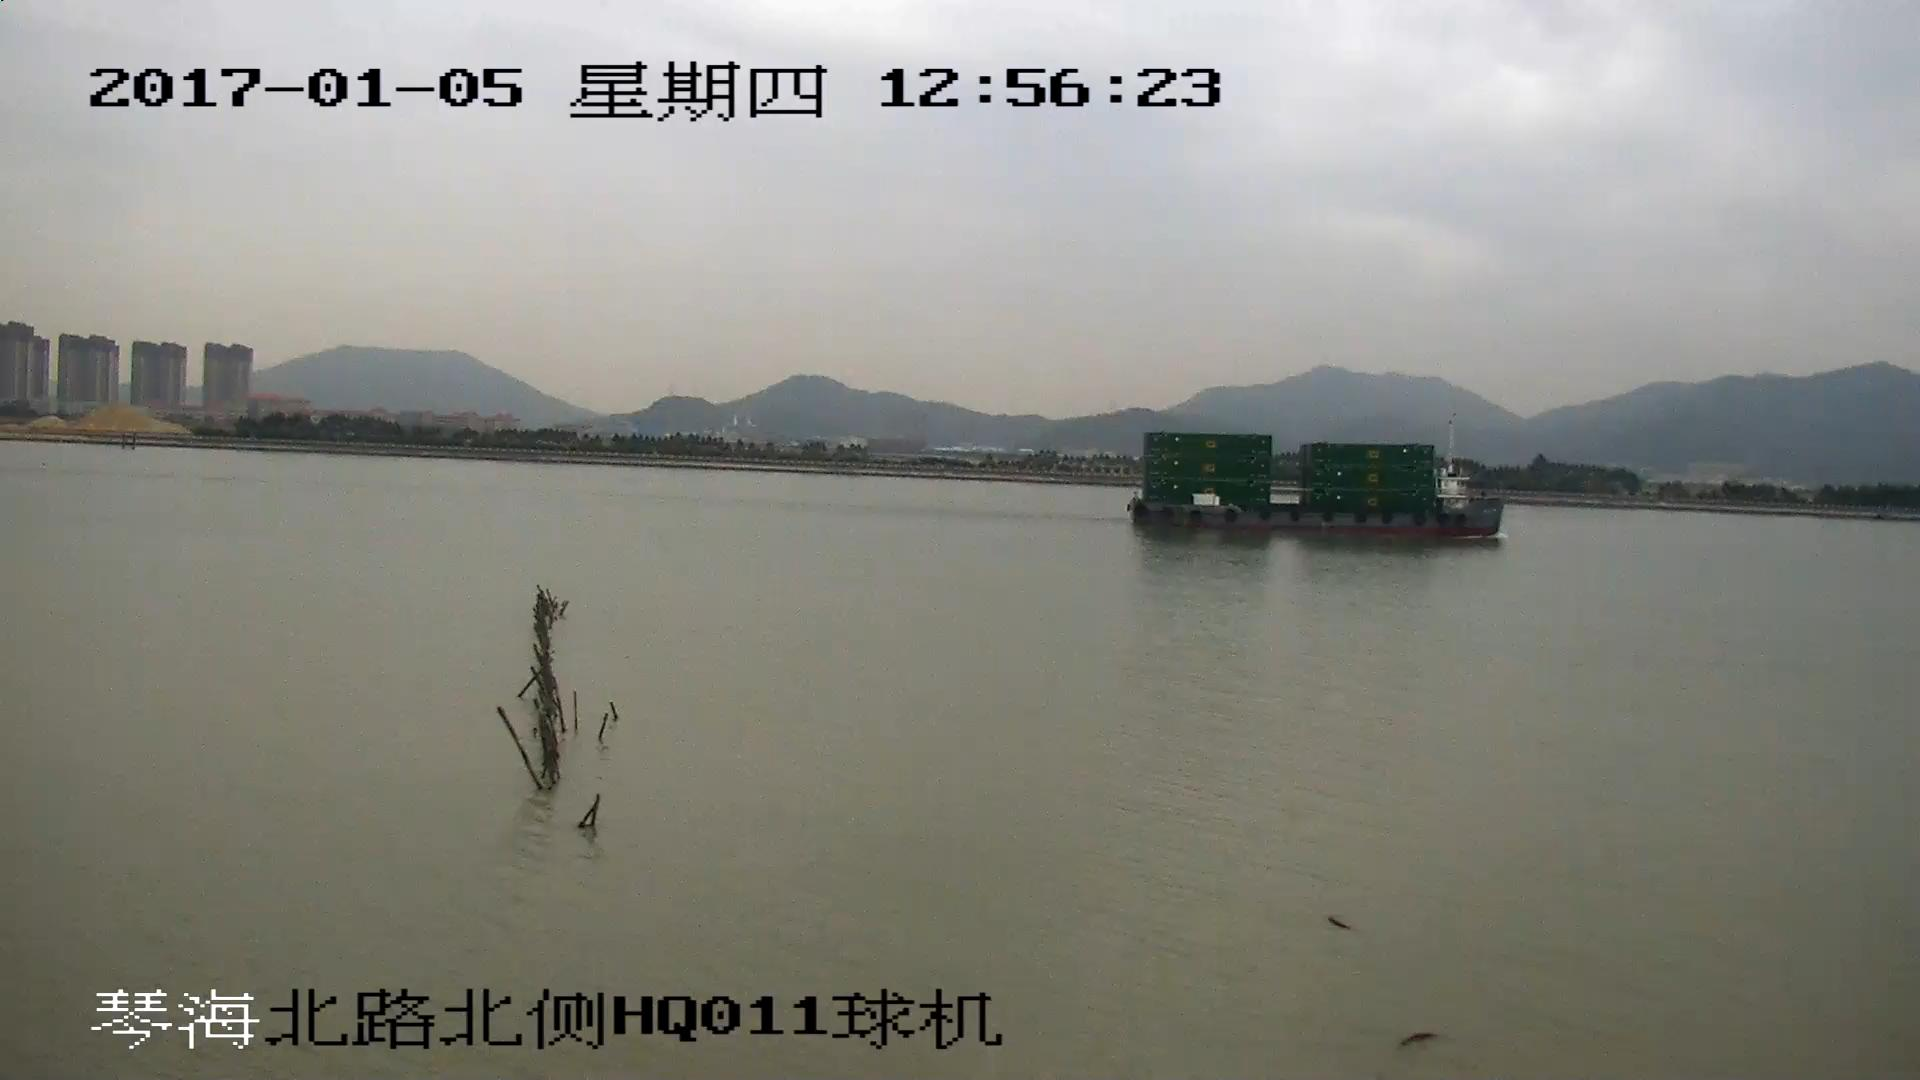container ship: (1127, 432, 1506, 542)
